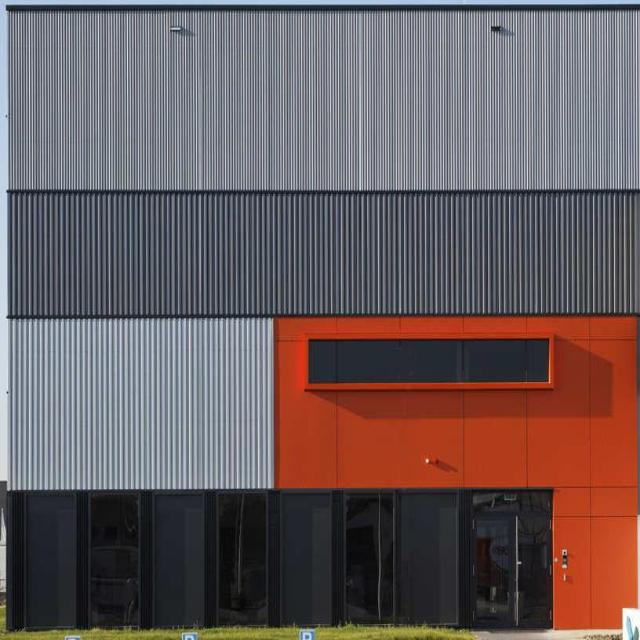door: (470, 510, 520, 628)
wall: (8, 0, 639, 632)
windows: (310, 338, 550, 382), (217, 494, 268, 630), (346, 494, 395, 629), (90, 496, 138, 630)
